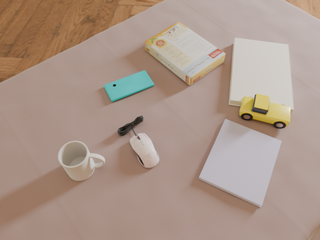book: (199, 119, 281, 207), (229, 38, 294, 113)
box: (145, 22, 225, 85)
cup: (58, 141, 105, 181)
mouse: (130, 133, 159, 168)
phone: (104, 70, 154, 102)
toy_car: (240, 93, 291, 128)
